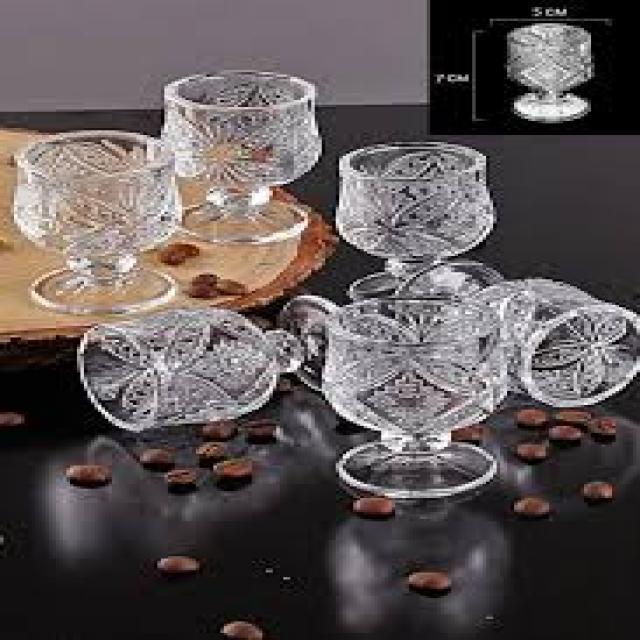Dry: (324, 293, 516, 498)
